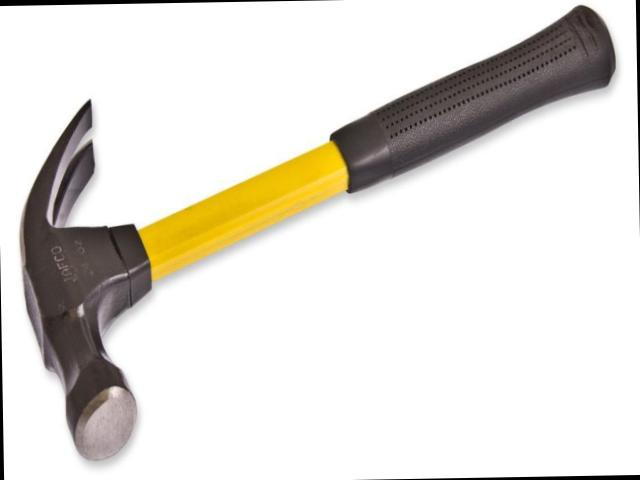hammer: (16, 2, 624, 462)
